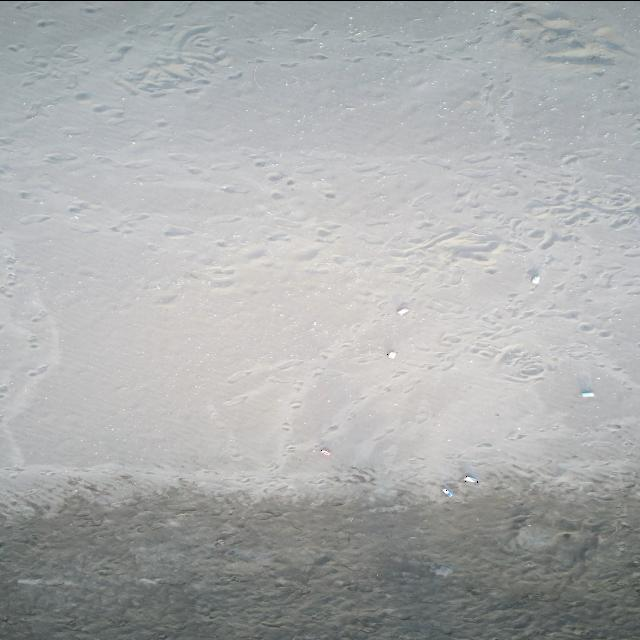Garbage: (431, 564, 452, 575), (531, 272, 540, 284), (396, 306, 407, 315), (464, 476, 477, 483), (442, 487, 452, 495), (320, 447, 329, 455), (580, 390, 593, 395), (387, 351, 395, 359)
